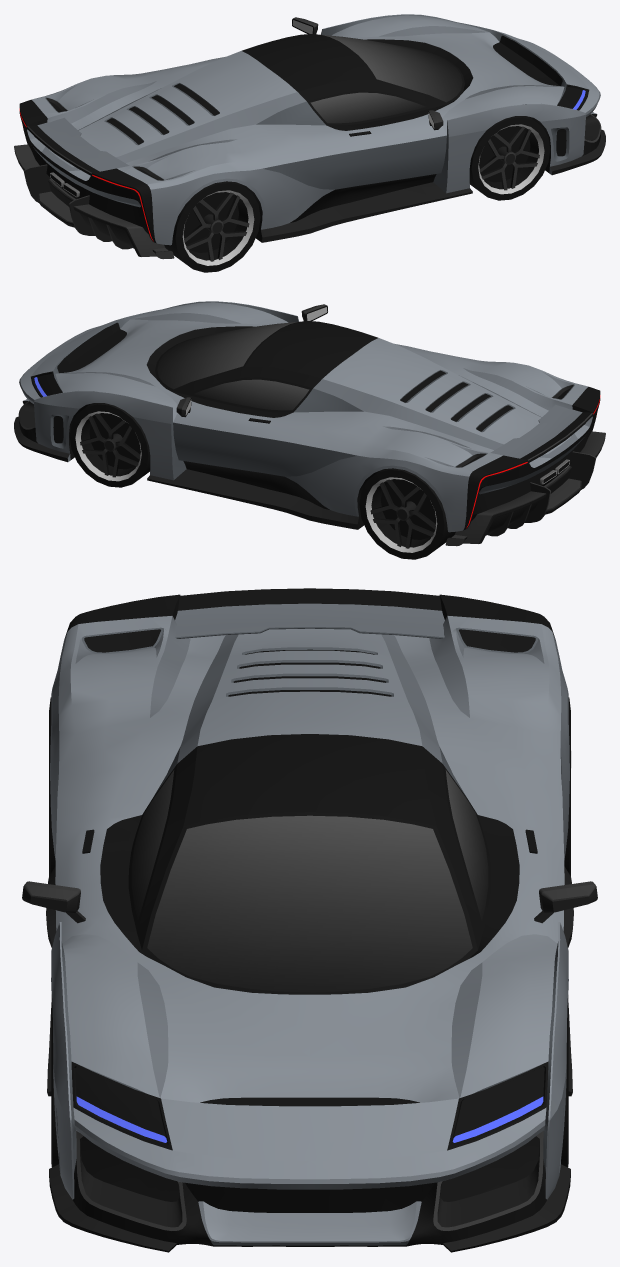
Rendered from Car_094.glb.
3 renders of one model, top to bottom at view 1: azimuth 30°, elevation 25°; view 2: azimuth 150°, elevation 25°; view 3: azimuth 270°, elevation 25°, orthographic. The views are drawn at different scales.
Visible parts, largest first — view 1: Car_094, wheel_3_Car_094_Wheel_2R, wheel_1_Car_094_Wheel_1R; view 2: Car_094, wheel_2_Car_094_Wheel_2L, wheel_0_Car_094_Wheel_1L; view 3: Car_094.
Boxes of the visible parts, box(x1,y1,x2,y2) form: Car_094: box(14, 14, 605, 259); wheel_3_Car_094_Wheel_2R: box(164, 181, 260, 272); wheel_1_Car_094_Wheel_1R: box(469, 116, 550, 200); Car_094: box(14, 301, 605, 546); wheel_2_Car_094_Wheel_2L: box(359, 468, 455, 559); wheel_0_Car_094_Wheel_1L: box(69, 403, 150, 487); Car_094: box(22, 588, 597, 1252).
Bounding box in the file's own units: 4.78 × 1.14 × 2.26.
2 materials, 2 textured.
